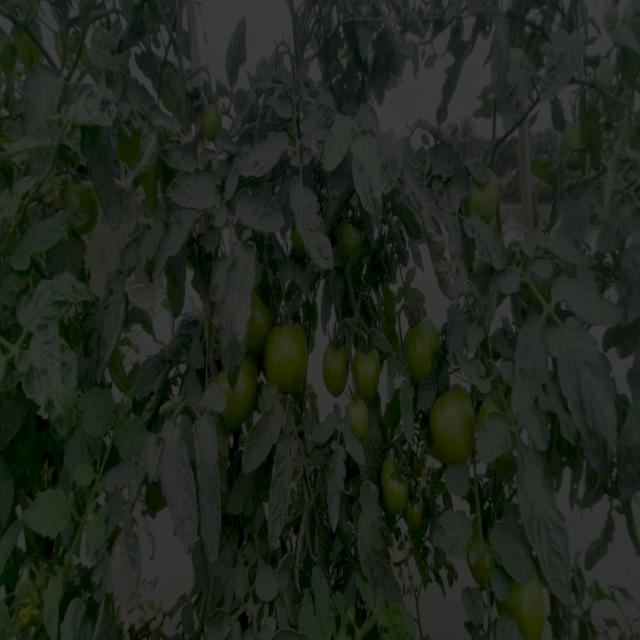tomato: (216, 293, 310, 425), (51, 173, 108, 241), (505, 563, 549, 640), (458, 164, 510, 227), (387, 460, 427, 536), (482, 392, 523, 461), (409, 318, 448, 389), (438, 393, 475, 466), (552, 117, 589, 172), (521, 269, 558, 314), (467, 536, 496, 591), (504, 47, 541, 89), (593, 45, 625, 93), (321, 338, 348, 394), (357, 347, 385, 399), (202, 105, 233, 149), (337, 225, 368, 260), (467, 247, 495, 282), (347, 405, 372, 443), (288, 228, 315, 261)
